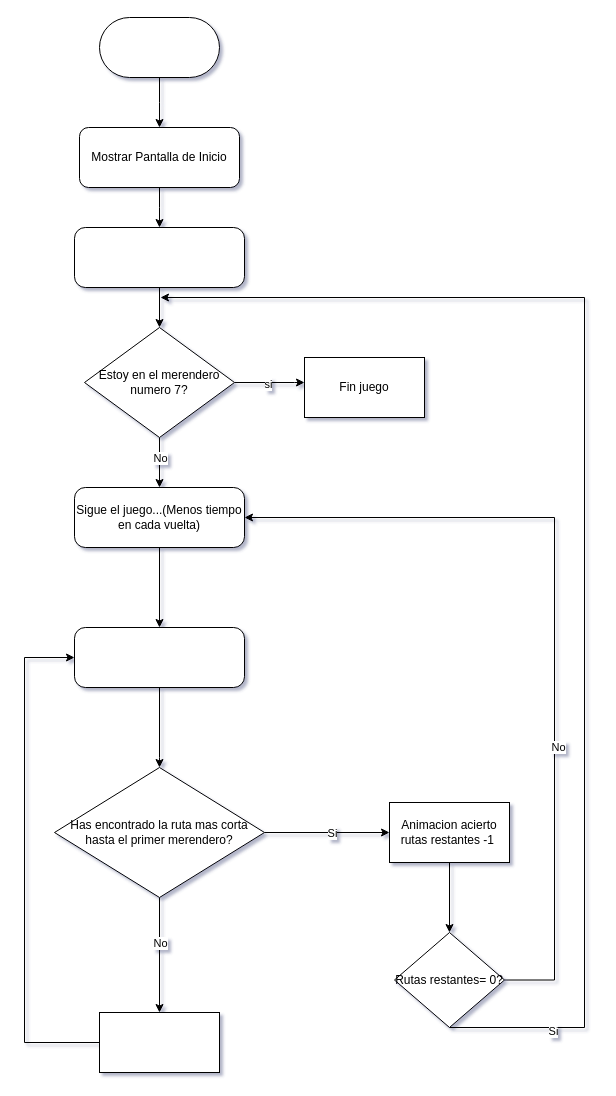
The diagram is 616 pixels wide and 1096 high, and some of its shapes have lost their labels. Here are the shapes that lost their labels. From the top down, the centre of each, then its label:
pixel 159 47: Inicio
pixel 159 257: pulsa Jugar= Aparece el mapa
pixel 159 657: Punto inicial, temporizador on. (1min para encontrar ruta mas corta)
pixel 159 1042: Animacion fallo
